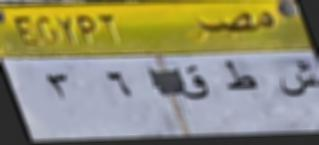3: (43, 70, 74, 106)
6: (102, 66, 136, 103)
Taa: (222, 58, 260, 97)
qaaf: (177, 63, 213, 105)
sheen: (276, 58, 319, 102)
